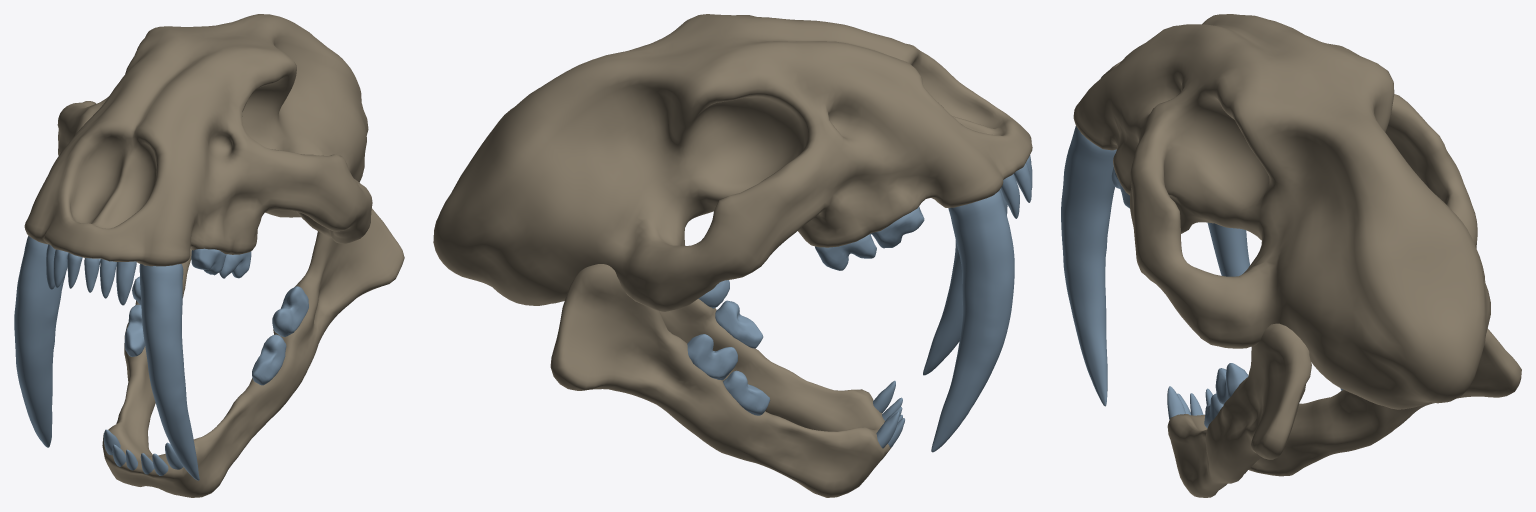
File: Saber_low.fbx
3 views of the same model, side by side, from view 1: azimuth 30°, elevation 25°; view 2: azimuth 150°, elevation 25°; view 3: azimuth 270°, elevation 25° (orthographic). The views are drawn at different scales.
Parts seen in each view (by area): view 1: headlow, toothlow; view 2: headlow, toothlow; view 3: headlow, toothlow.
Part boxes in pixels (<box>): headlow: <box>24,14,404,497</box>; toothlow: <box>14,236,308,480</box>; headlow: <box>433,14,1032,497</box>; toothlow: <box>687,155,1032,452</box>; headlow: <box>1073,14,1521,497</box>; toothlow: <box>1061,126,1343,428</box>.
Size of the model in its own units: 333 by 306 by 276.
